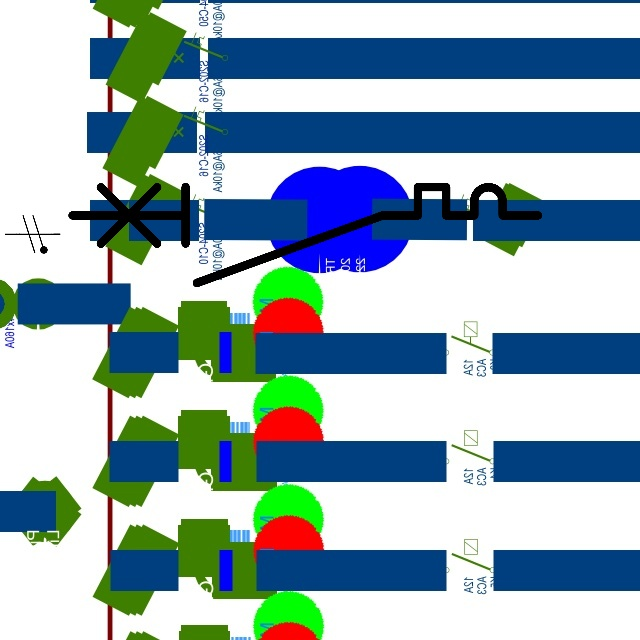interruptor_termomagnetico: (60, 175, 550, 295)
